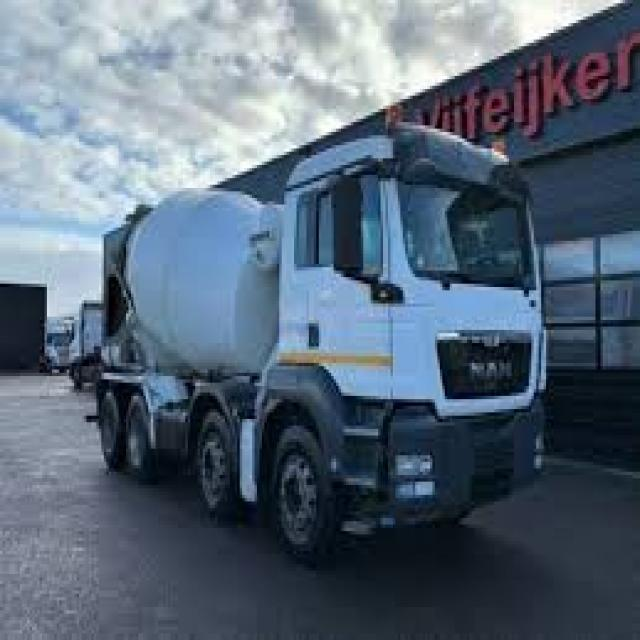Mixer Truck: (79, 99, 552, 566)
